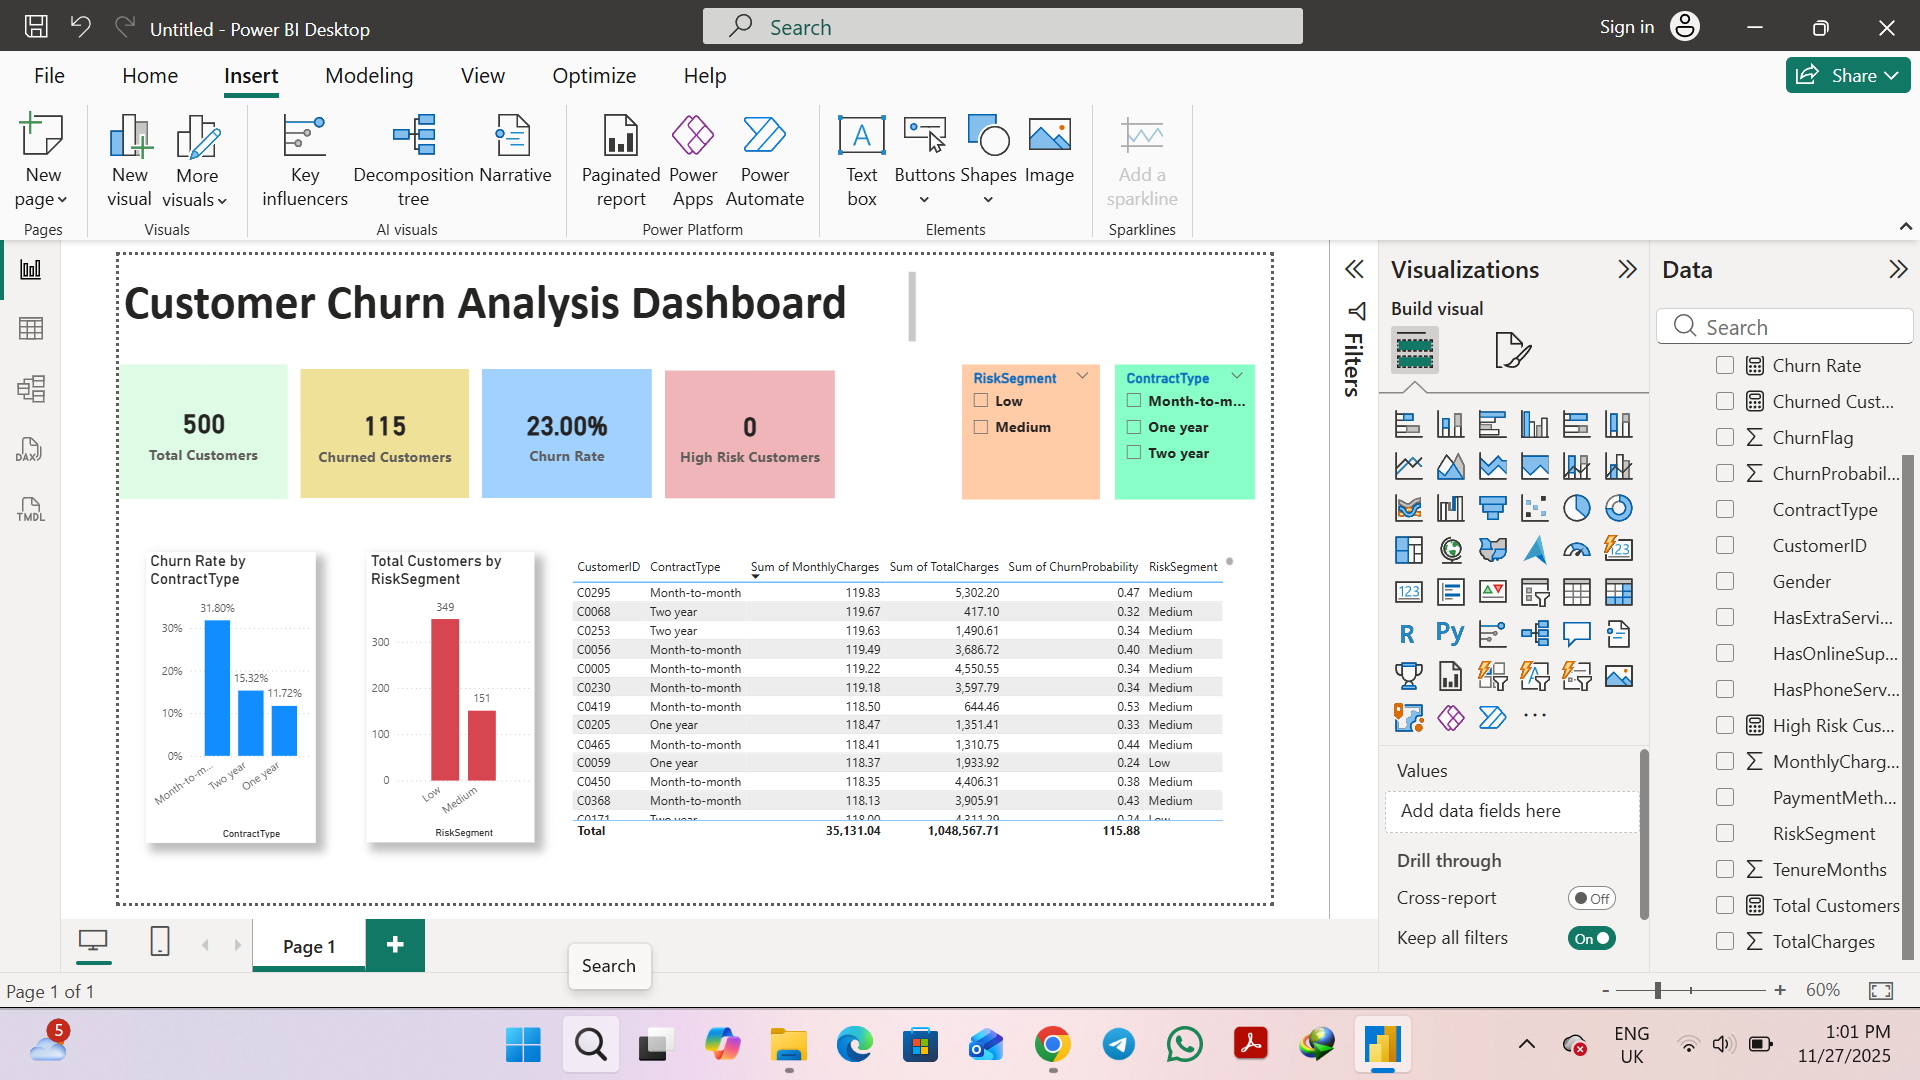

What the dashboard file says about the page in this screenshot:
{"tool":"powerbi","page":{"name":"Page 1","canvas":[1280,720],"ordinal":0},"visuals":[{"type":"card","fields":{"Values":["churn_scores.Churned Customers"]},"box":[202.2,126.6,187.1,143.6],"z":0},{"type":"card","fields":{"Values":["churn_scores.Total Customers"]},"box":[0,120.9,187.1,149.3],"z":1000},{"type":"card","fields":{"Values":["churn_scores.Churn Rate"]},"box":[403.3,126.7,188.3,143.3],"z":2000},{"type":"card","fields":{"Values":["churn_scores.High Risk Customers"]},"box":[606.7,128.3,188.3,141.7],"z":3000},{"type":"clusteredColumnChart","fields":{"Category":["churn_scores.ContractType"],"Y":["churn_scores.Churn Rate"]},"box":[30.2,330.7,189,323.2],"z":3002},{"type":"clusteredColumnChart","fields":{"Category":["churn_scores.RiskSegment"],"Y":["churn_scores.Total Customers"]},"box":[275.5,330.2,186.8,322.6],"z":3003},{"type":"tableEx","fields":{"Values":["churn_scores.CustomerID","churn_scores.ContractType","Sum(churn_scores.MonthlyCharges)","Sum(churn_scores.TotalCharges)","Sum(churn_scores.ChurnProbability)","churn_scores.RiskSegment"]},"box":[498.3,330,745,323.3],"z":3004},{"type":"textbox","box":[0,13.3,890,90],"z":3006},{"type":"slicer","fields":{"Values":["churn_scores.RiskSegment"]},"box":[936.7,121.7,153.3,150],"z":3007},{"type":"slicer","fields":{"Values":["churn_scores.ContractType"]},"box":[1106.7,121.7,155,150],"z":3008}]}

Visuals, with their boxes on the page's 1280x720 design canvas (x1, y1, x2, y2). These are canvas units, not pixel positions in the 1920x1080 screenshot, which may show the page scaled, cropped or inside an application window:
card - churn_scores.Churned Customers: l=202, t=127, r=389, b=270
card - churn_scores.Total Customers: l=0, t=121, r=187, b=270
card - churn_scores.Churn Rate: l=403, t=127, r=592, b=270
card - churn_scores.High Risk Customers: l=607, t=128, r=795, b=270
clusteredColumnChart - churn_scores.ContractType x churn_scores.Churn Rate: l=30, t=331, r=219, b=654
clusteredColumnChart - churn_scores.RiskSegment x churn_scores.Total Customers: l=276, t=330, r=462, b=653
tableEx - churn_scores.CustomerID x churn_scores.ContractType: l=498, t=330, r=1243, b=653
textbox: l=0, t=13, r=890, b=103
slicer - churn_scores.RiskSegment: l=937, t=122, r=1090, b=272
slicer - churn_scores.ContractType: l=1107, t=122, r=1262, b=272
